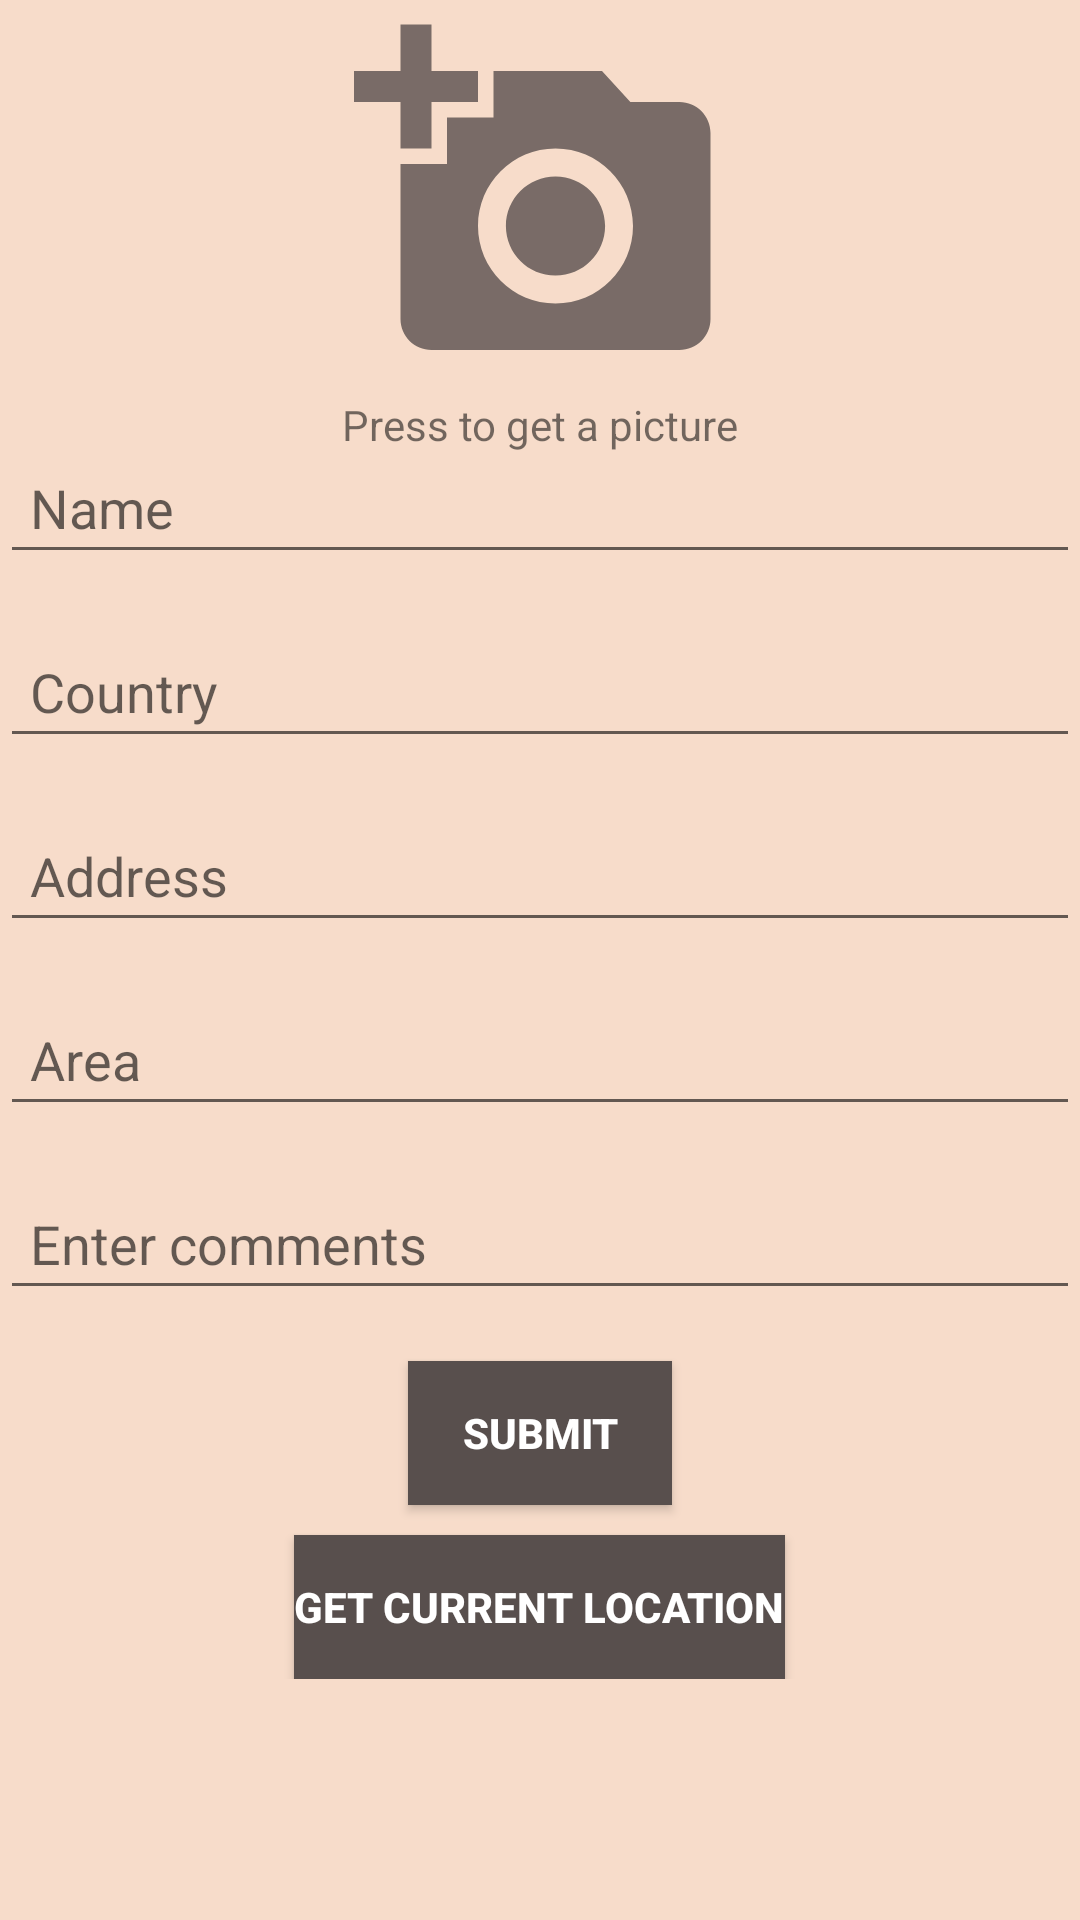

Screen size 1080 x 1920. Icon name, then its center in pixels as point (x, y):
addphoto: point (532, 187)
